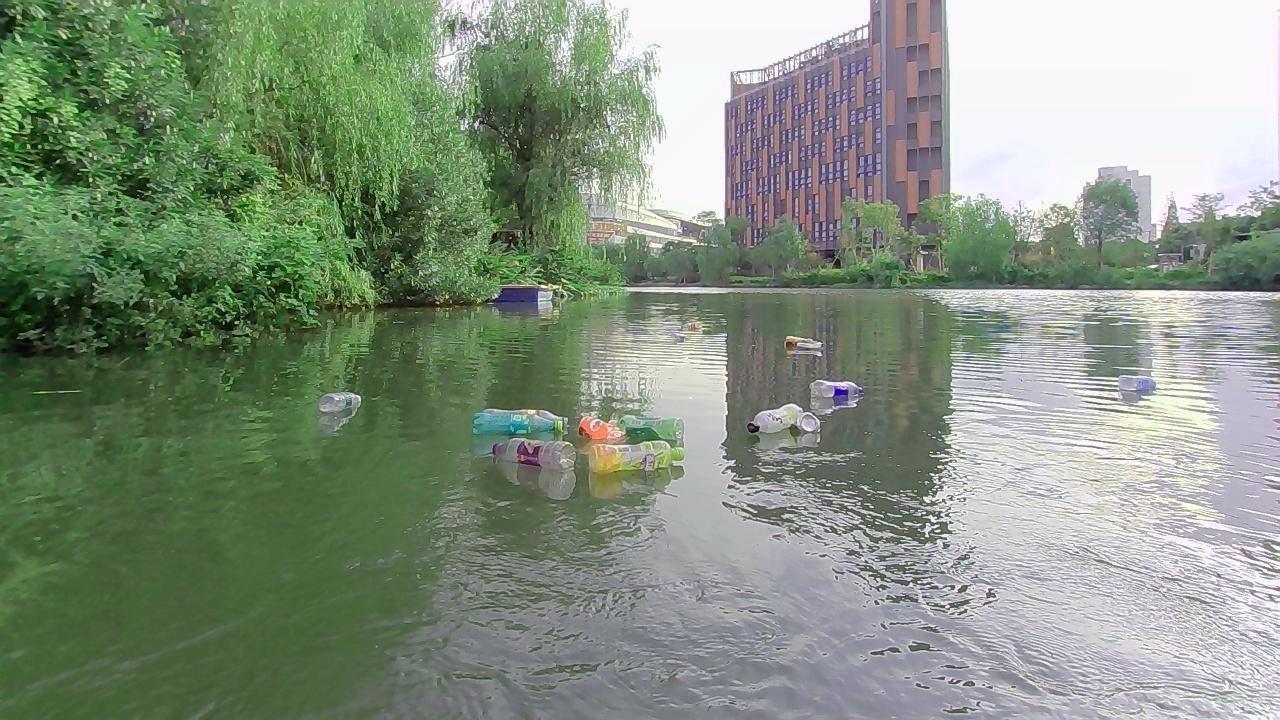Metal: (578, 415, 627, 446), (795, 411, 821, 433)
Plastic: (587, 440, 685, 475), (491, 437, 577, 472), (471, 413, 564, 437), (609, 413, 684, 441), (746, 402, 804, 434), (482, 407, 569, 426), (808, 379, 864, 399), (317, 391, 362, 415), (1117, 374, 1157, 392)
